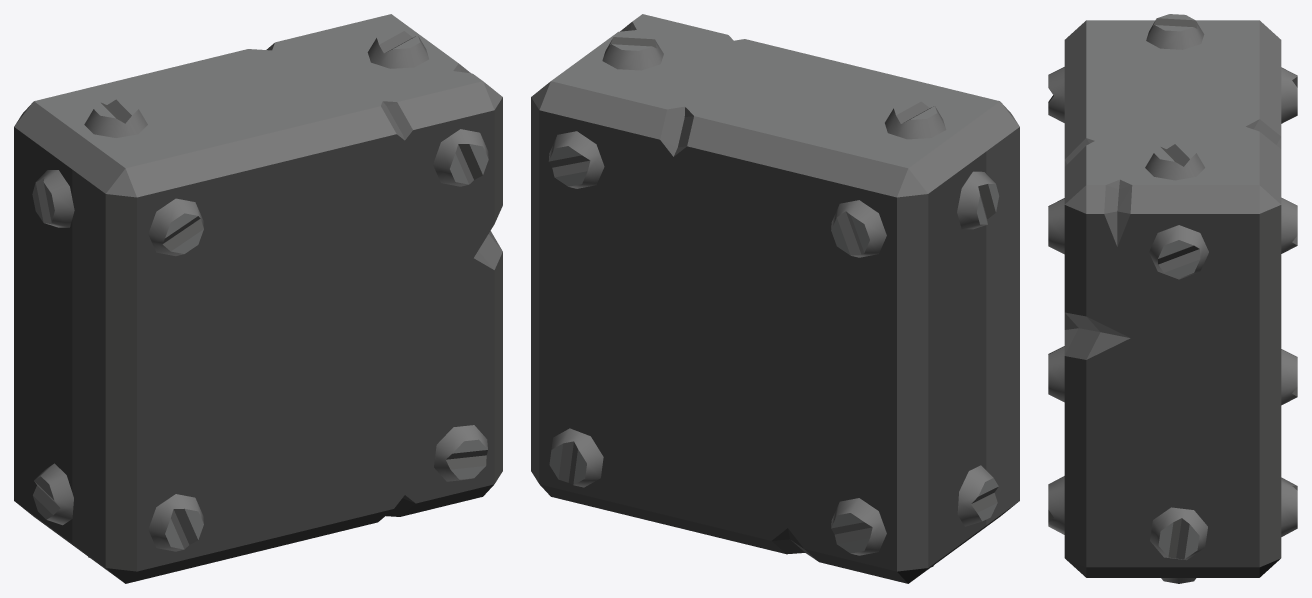
Rendered from m_kub_metalOld_halfBig.FBX.
3 views of the same model, side by side, from view 1: azimuth 30°, elevation 25°; view 2: azimuth 150°, elevation 25°; view 3: azimuth 270°, elevation 25° (orthographic). The views are drawn at different scales.
Parts seen in each view (by area): view 1: m_kub_metalOld_halfBig; view 2: m_kub_metalOld_halfBig; view 3: m_kub_metalOld_halfBig.
Part boxes in pixels (x1,y1,x2,y2): m_kub_metalOld_halfBig: [14, 14, 502, 583]; m_kub_metalOld_halfBig: [531, 14, 1019, 583]; m_kub_metalOld_halfBig: [1048, 14, 1297, 583].
Bounding box in the file's own units: 2.15 × 2.15 × 1.15.
